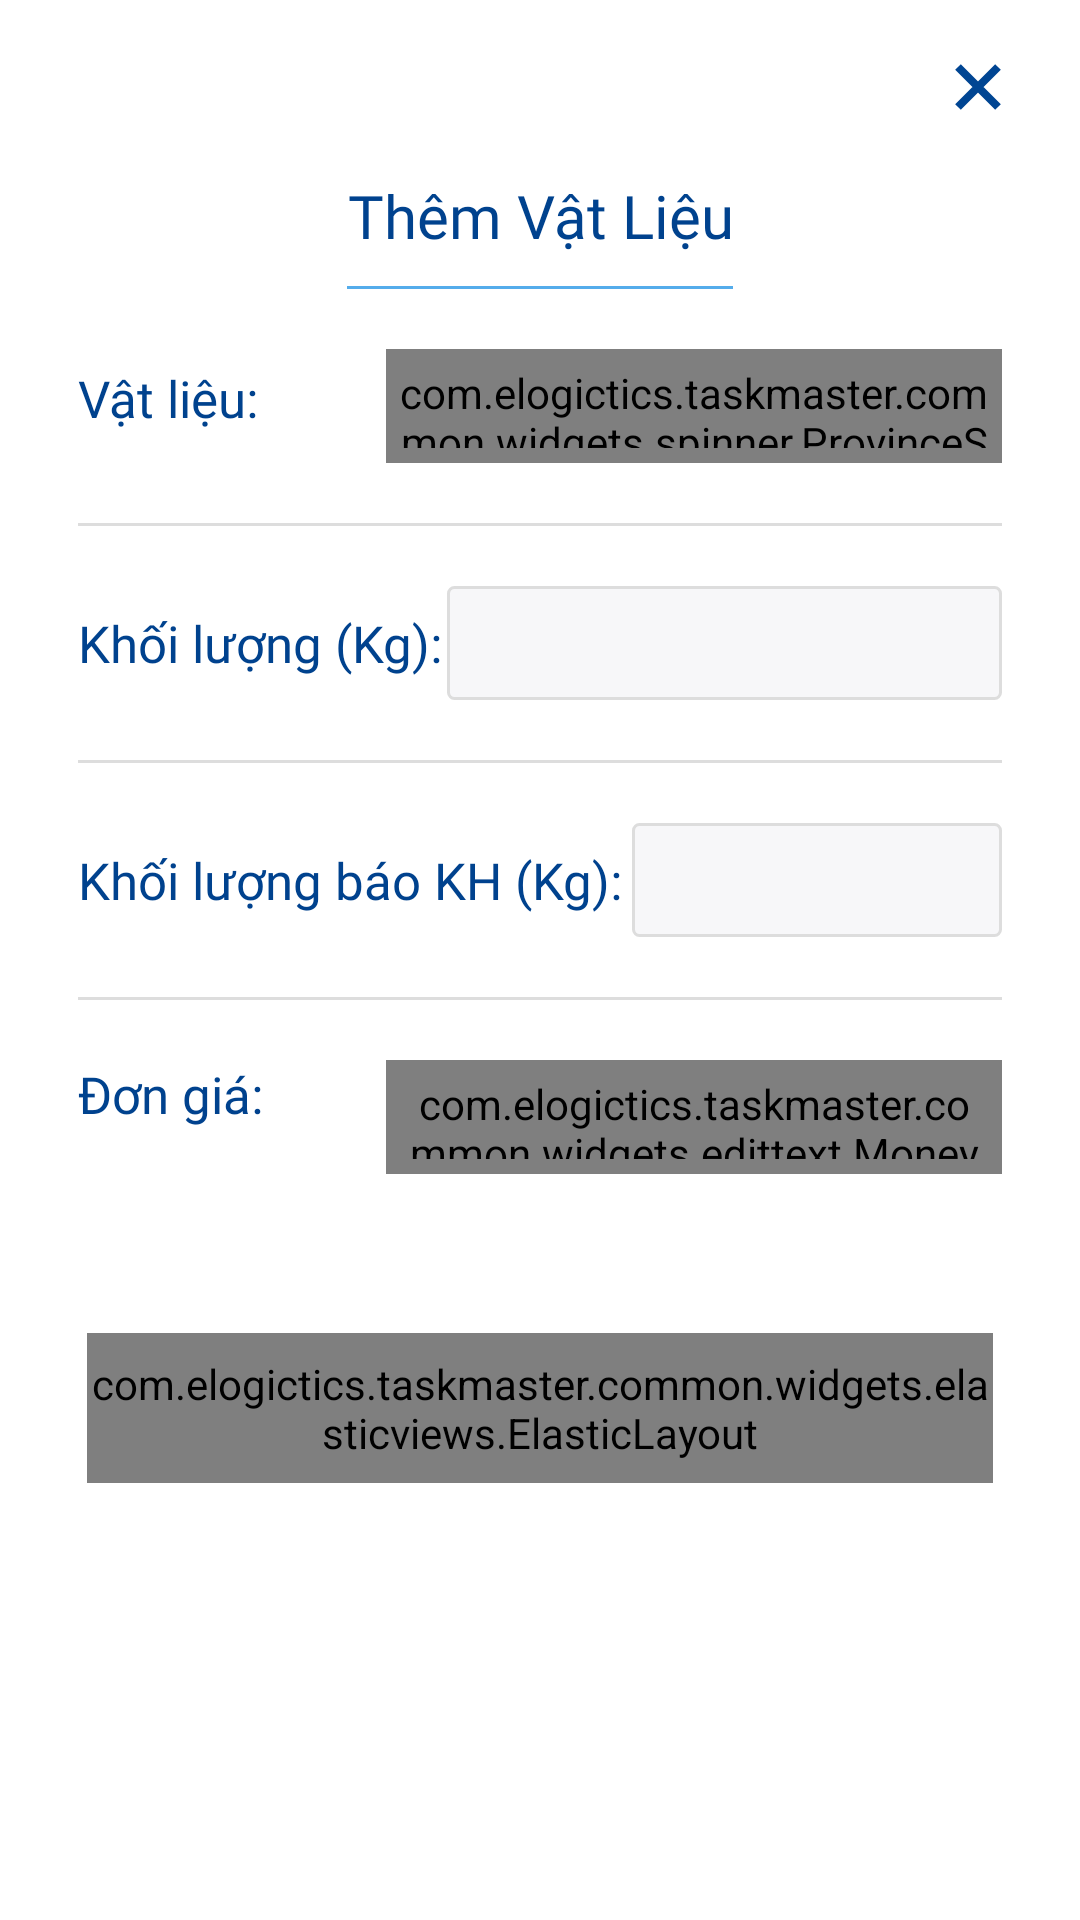

Screen size 1080 × 1920. Icon name, then its center in pixels as point (x, y):
close dialog: point (978, 87)
